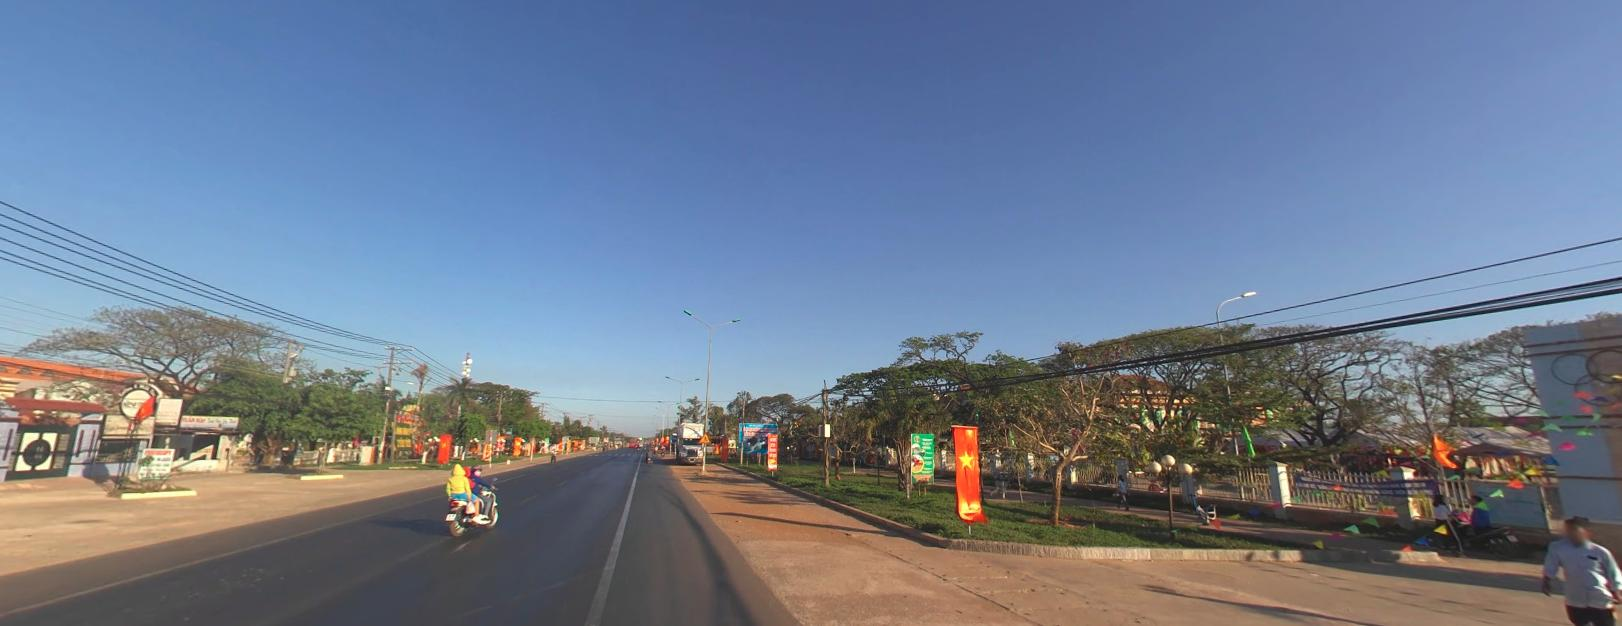Nguy hiem: (697, 431, 709, 442)
